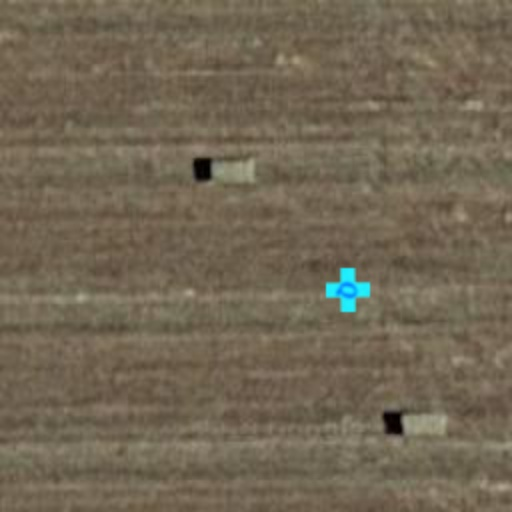cross: (326, 268, 370, 312)
